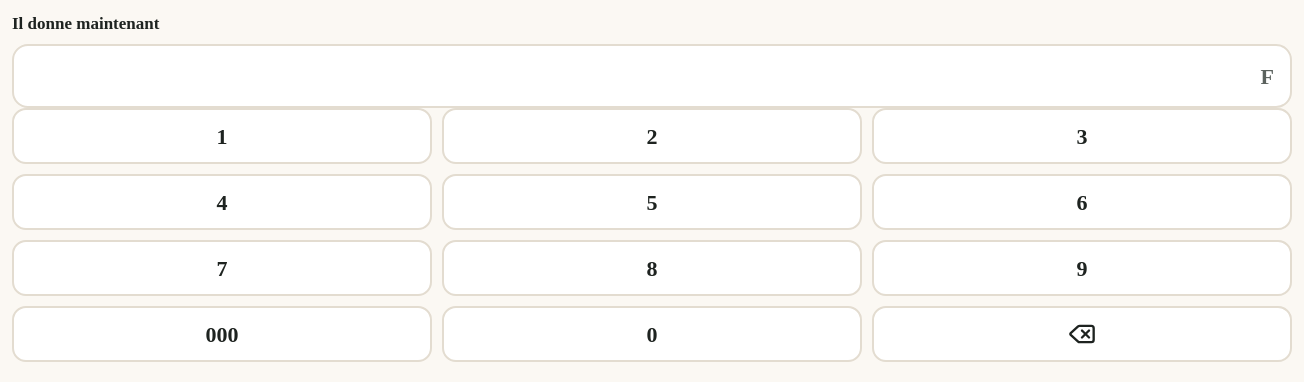
Test: champ montant et pavé numérique › le pavé ajoute, multiplie par mille et efface
Click the button "7": (222, 268) [12, 240, 432, 296]
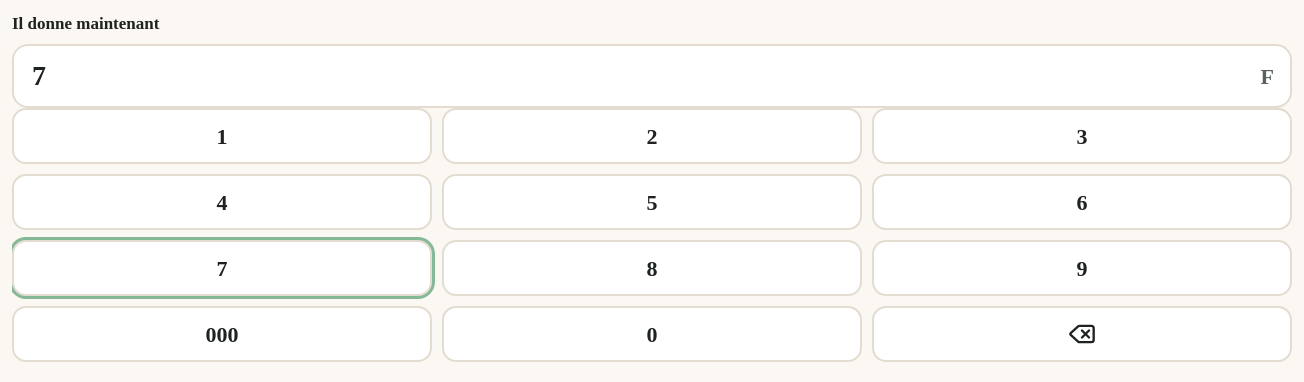
Click the button "5": (652, 202) [442, 174, 862, 230]
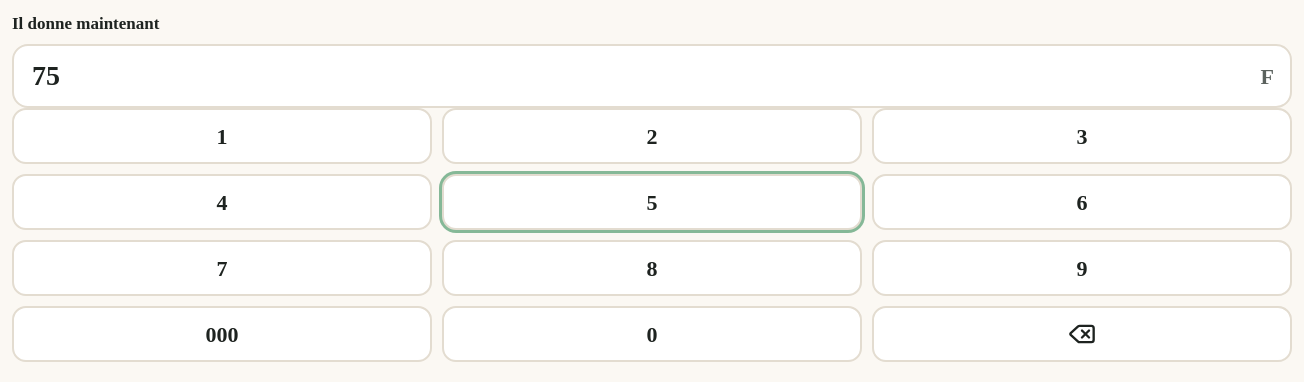
Click the button "000": (222, 334) [12, 306, 432, 362]
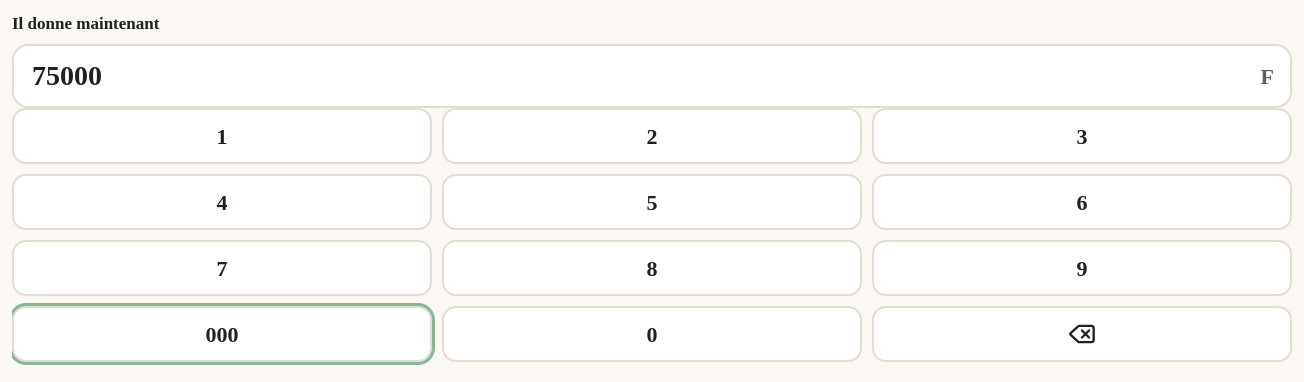
Expected: the field labelled "Il donne maintenant" holds "75000", [12, 44, 1292, 108]
Click the button named "Effacer le dernier chiffre": (1082, 334) [872, 306, 1292, 362]
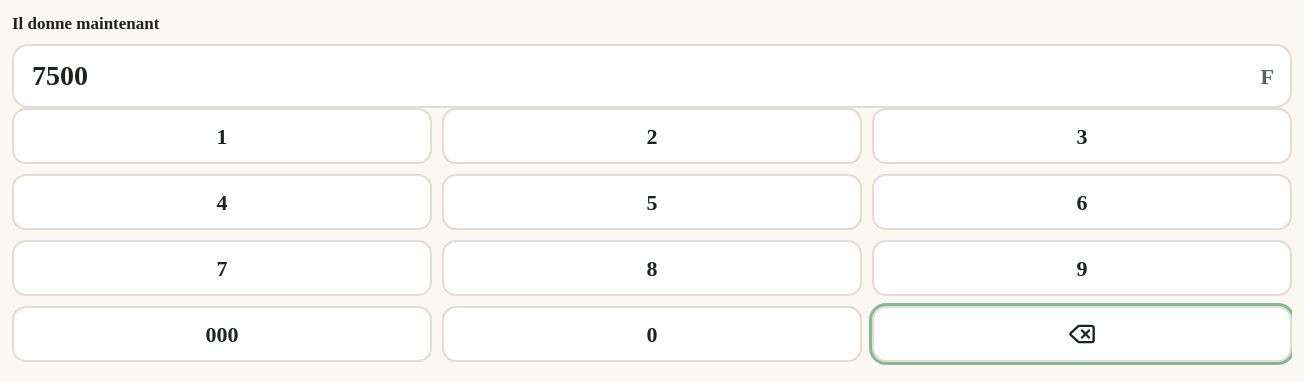
Expected: the field labelled "Il donne maintenant" holds "7500", [12, 44, 1292, 108]
